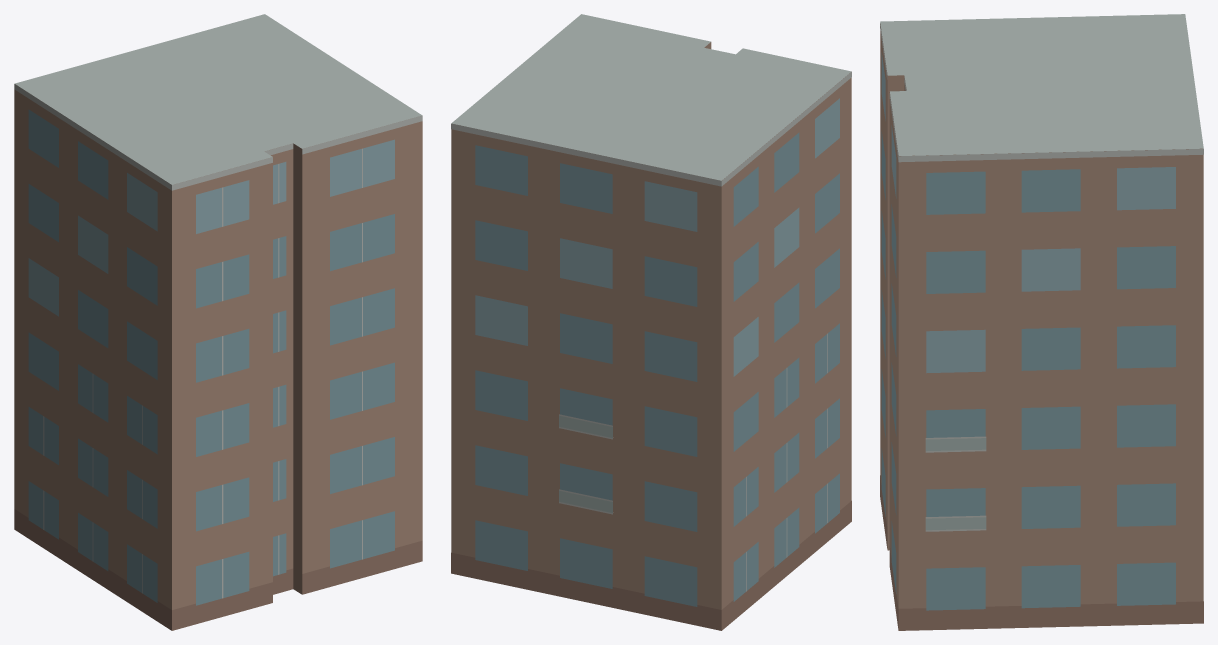
The model's file is survey-upis-32734289.glb.
3 views of the same model, side by side, from view 1: azimuth 30°, elevation 25°; view 2: azimuth 150°, elevation 25°; view 3: azimuth 270°, elevation 25° (orthographic). The views are drawn at different scales.
Visible parts, largest first — view 1: survey-upis-32734289.tmp; view 2: survey-upis-32734289.tmp; view 3: survey-upis-32734289.tmp.
Part boxes in pixels (bbox=[...]): survey-upis-32734289.tmp: bbox=[14, 14, 422, 630]; survey-upis-32734289.tmp: bbox=[451, 14, 851, 630]; survey-upis-32734289.tmp: bbox=[880, 14, 1203, 630].
Size of the model in its own units: 12.21 by 19 by 11.75.
